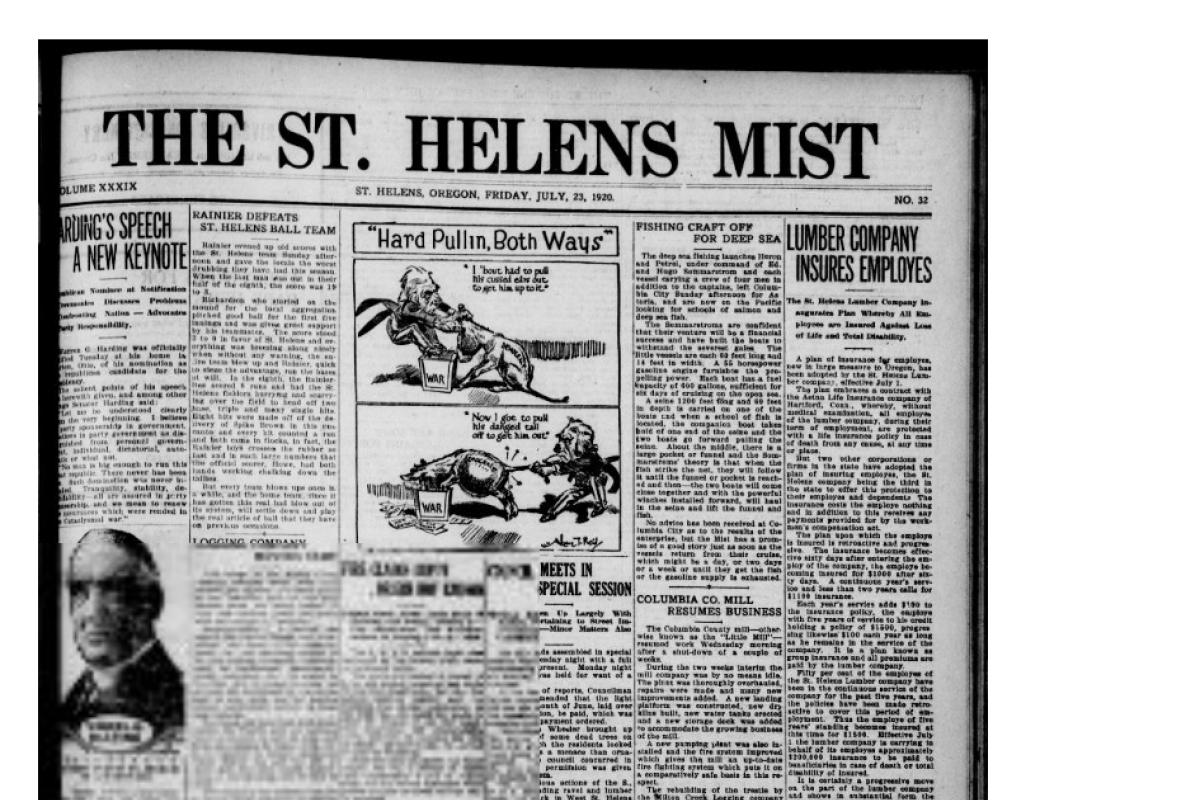news_paper: (58, 55, 980, 800)
